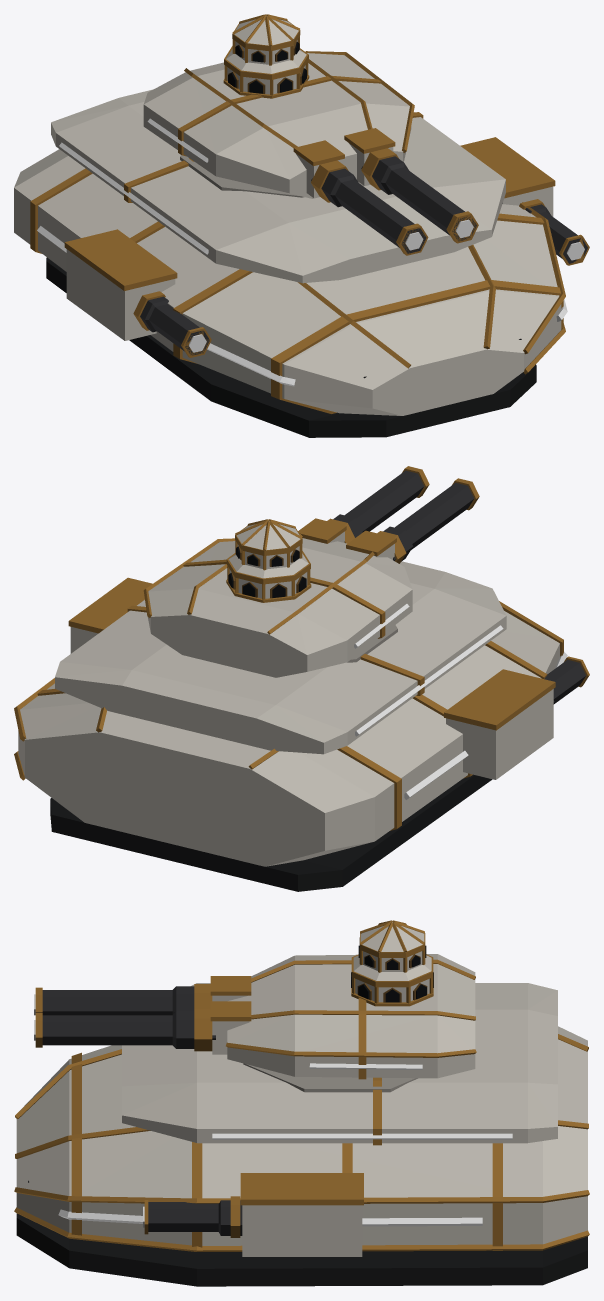
Rendered from tank_t3.glb.
The picture shows the model from 3 angles, top to bottom: view 1: azimuth 30°, elevation 25°; view 2: azimuth 150°, elevation 25°; view 3: azimuth 270°, elevation 25°; orthographic projection. The views are drawn at different scales.
Visible parts, largest first — view 1: body, top; view 2: body, top; view 3: body, top.
Part boxes in pixels (x1,y1,x2,y2): body: (14, 89, 589, 437); top: (143, 14, 478, 255); body: (14, 561, 589, 891); top: (143, 466, 479, 677); body: (14, 983, 589, 1286); top: (34, 920, 476, 1079).
Bounding box in the file's own units: 7.66 × 4.82 × 8.58.
